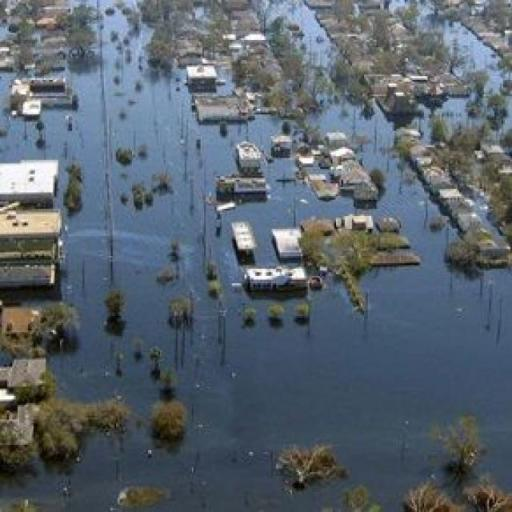flood: (0, 10, 512, 512), (389, 0, 506, 92), (256, 0, 336, 70), (378, 96, 488, 144), (498, 95, 512, 140)
house: (0, 158, 56, 208), (8, 76, 77, 114), (181, 63, 239, 101), (212, 171, 269, 209), (0, 209, 63, 242), (247, 266, 308, 291), (232, 217, 258, 262), (438, 184, 463, 206)
